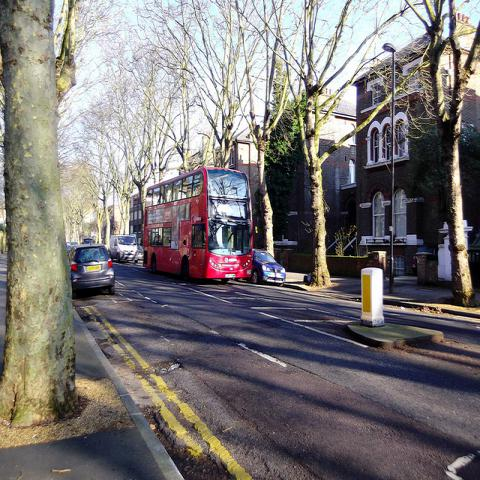bus: (142, 167, 261, 279)
car: (71, 240, 116, 304), (252, 248, 286, 287), (134, 249, 143, 263), (66, 242, 73, 251)
truck: (110, 234, 138, 264)
